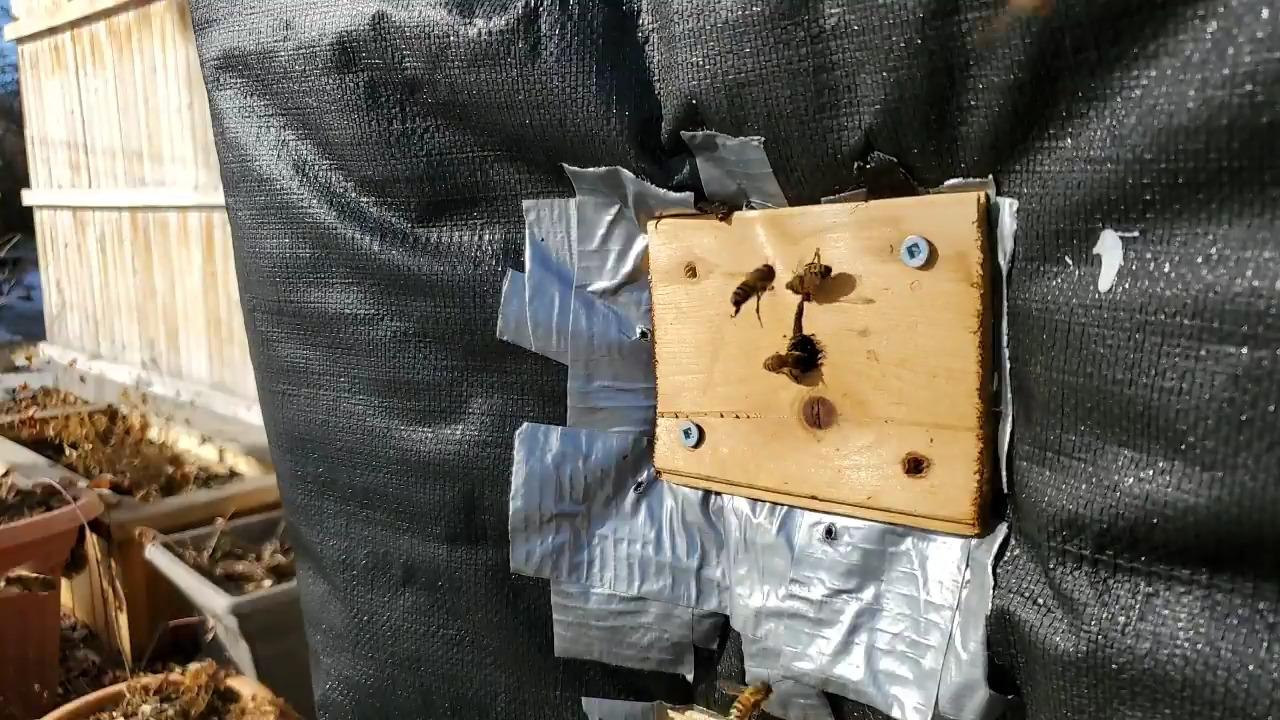bee: (733, 264, 774, 303), (729, 682, 771, 720), (0, 568, 55, 595), (791, 264, 831, 293), (762, 352, 810, 372)
